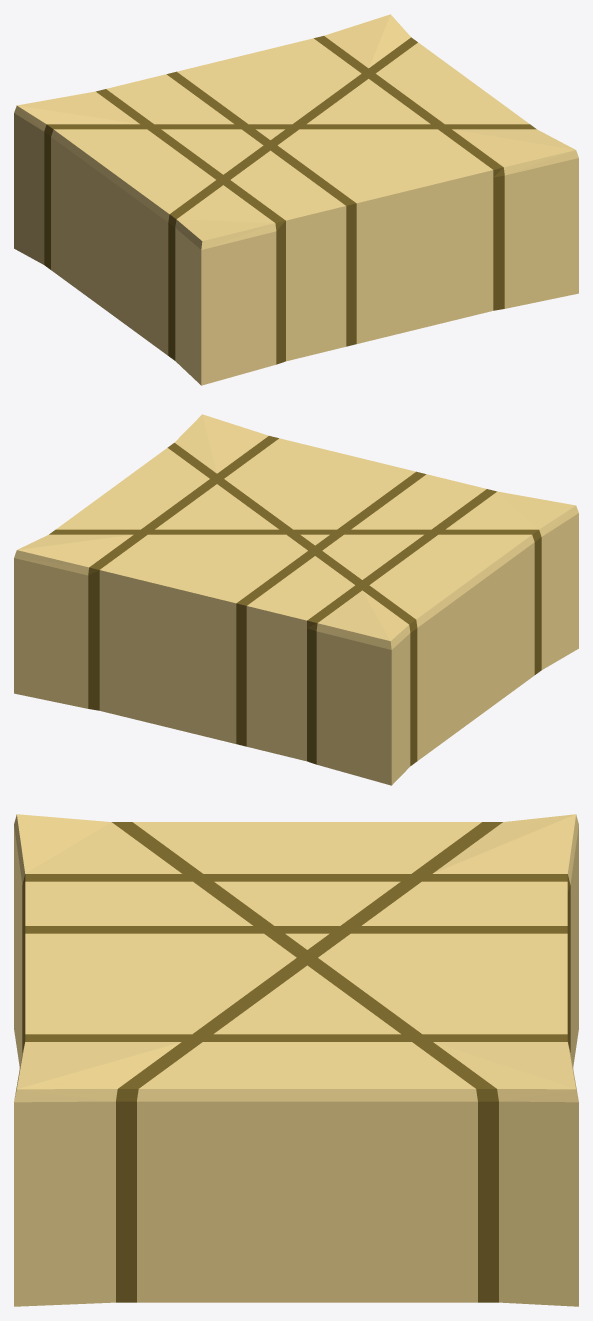
Rendered from Asian_Prop_Grain_Bale_01.FBX.
The picture shows the model from 3 angles, top to bottom: view 1: azimuth 30°, elevation 25°; view 2: azimuth 150°, elevation 25°; view 3: azimuth 270°, elevation 25°; orthographic projection. The views are drawn at different scales.
Parts seen in each view (by area): view 1: Asian_Prop_Grain_Bale_01; view 2: Asian_Prop_Grain_Bale_01; view 3: Asian_Prop_Grain_Bale_01.
Boxes of the visible parts, <box> form: Asian_Prop_Grain_Bale_01: <box>14,14,578,385</box>; Asian_Prop_Grain_Bale_01: <box>14,414,578,785</box>; Asian_Prop_Grain_Bale_01: <box>14,814,578,1306</box>.
Bounding box in the file's own units: 1902 × 690 × 1634.
